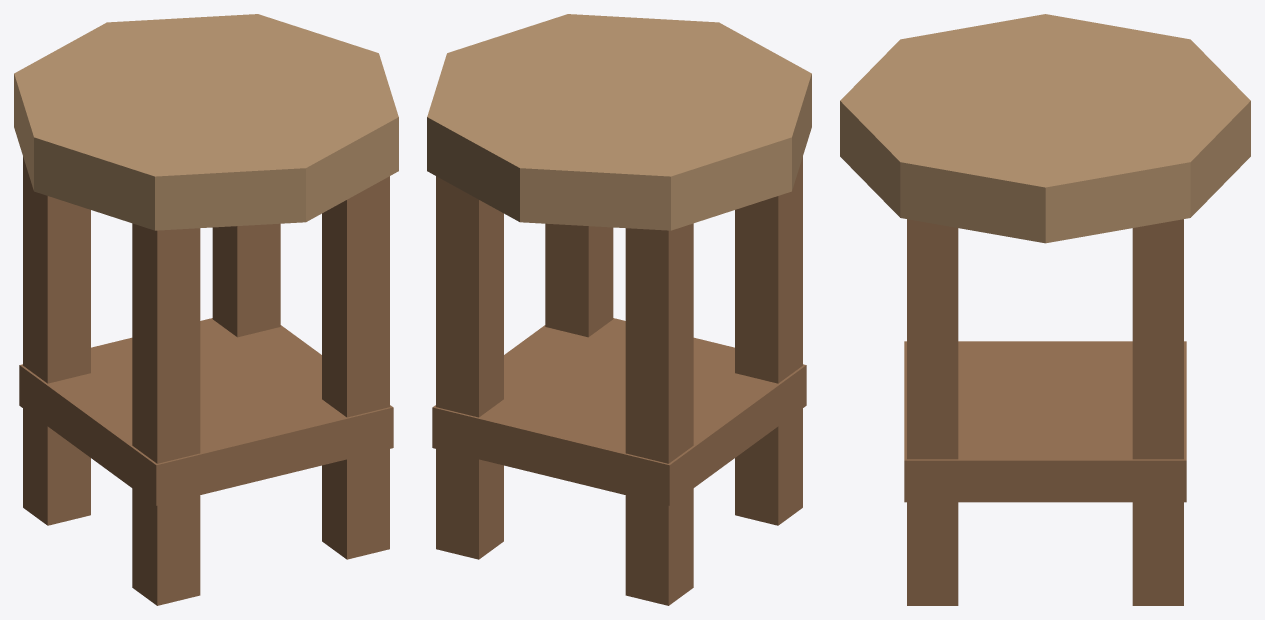
File: tavern_stool_tall.glb
3 renders of one model, left to right at view 1: azimuth 30°, elevation 25°; view 2: azimuth 150°, elevation 25°; view 3: azimuth 270°, elevation 25°, orthographic. The views are drawn at different scales.
Parts seen in each view (by area): view 1: tavern_stool_tall_Mesh; view 2: tavern_stool_tall_Mesh; view 3: tavern_stool_tall_Mesh.
Boxes of the visible parts, x1,y1,x2,y2 form: tavern_stool_tall_Mesh: (14,14,398,605); tavern_stool_tall_Mesh: (427,14,811,605); tavern_stool_tall_Mesh: (840,14,1250,605).
Bounding box in the file's own units: 0.8 × 0.96 × 0.8.
